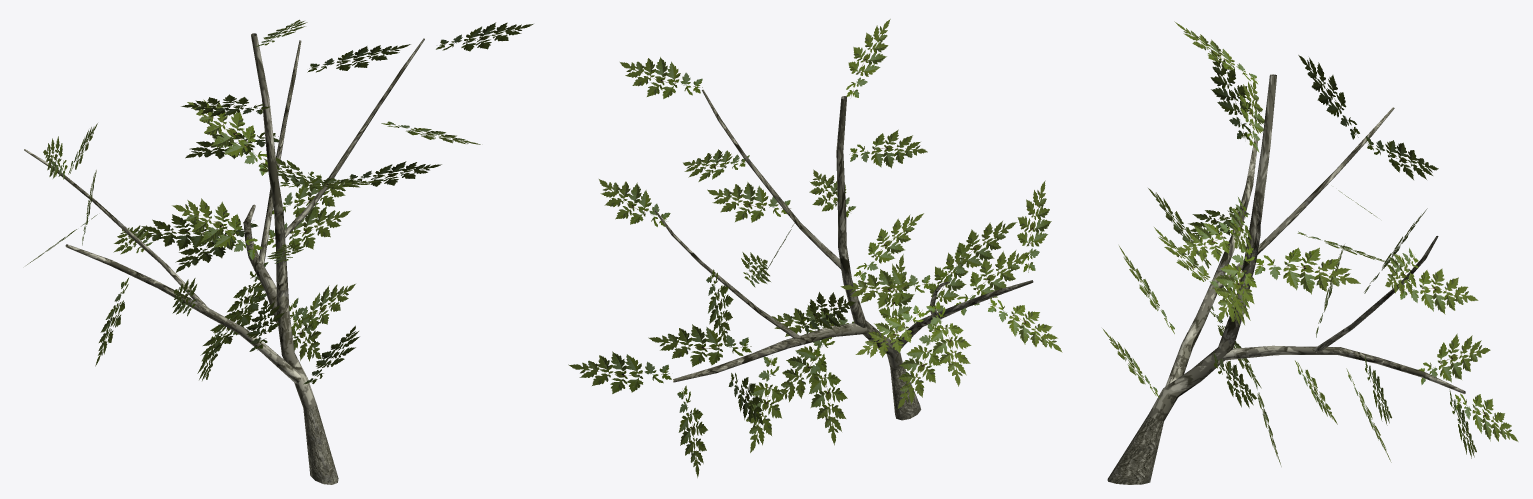
File: Branch01.fbx
3 views of the same model, side by side, from view 1: azimuth 30°, elevation 25°; view 2: azimuth 150°, elevation 25°; view 3: azimuth 270°, elevation 25° (orthographic). The views are drawn at different scales.
Parts seen in each view (by area): view 1: Branch01, Object001; view 2: Branch01, Object001; view 3: Branch01, Object001.
Boxes of the visible parts, box(x1,y1,x2,y2) form: Branch01: box(24, 19, 533, 408); Object001: box(303, 405, 338, 484); Branch01: box(568, 19, 1062, 477); Object001: box(890, 367, 921, 420); Branch01: box(1102, 21, 1518, 466); Object001: box(1107, 414, 1163, 484).
Bounding box in the file's own units: 130 × 118 × 97.55.
